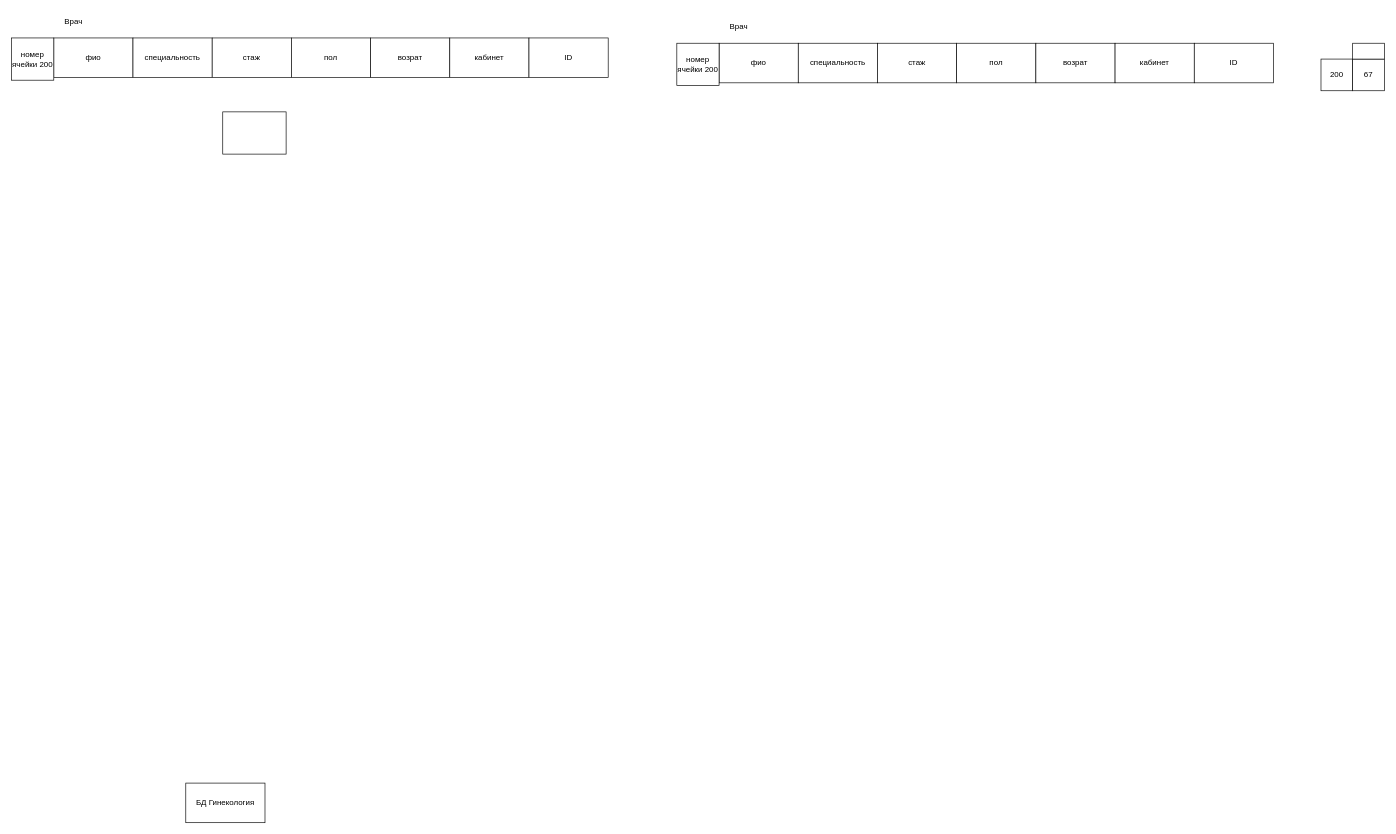
This 1396x834 diagram has some shape labels left out. Here are the shapes that lost their labels. From the top down, the centre of each, then its label:
pixel 1368 51: ключ номер
pixel 254 132: ключевое поле 67
